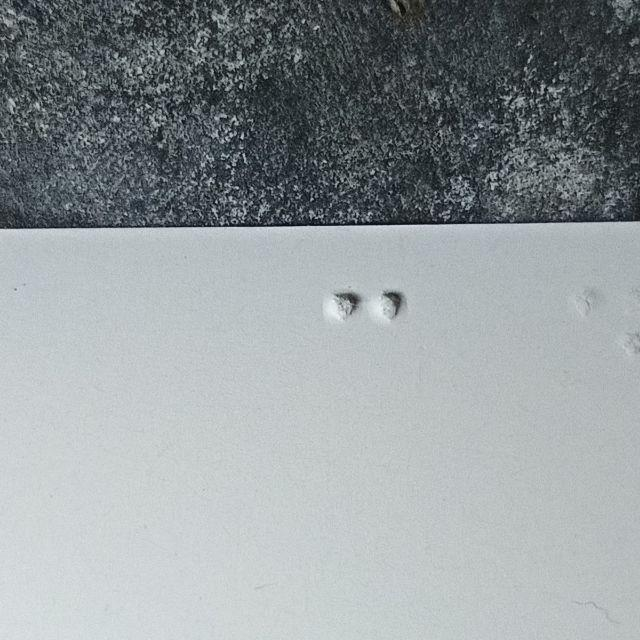b: (325, 289, 402, 401)
